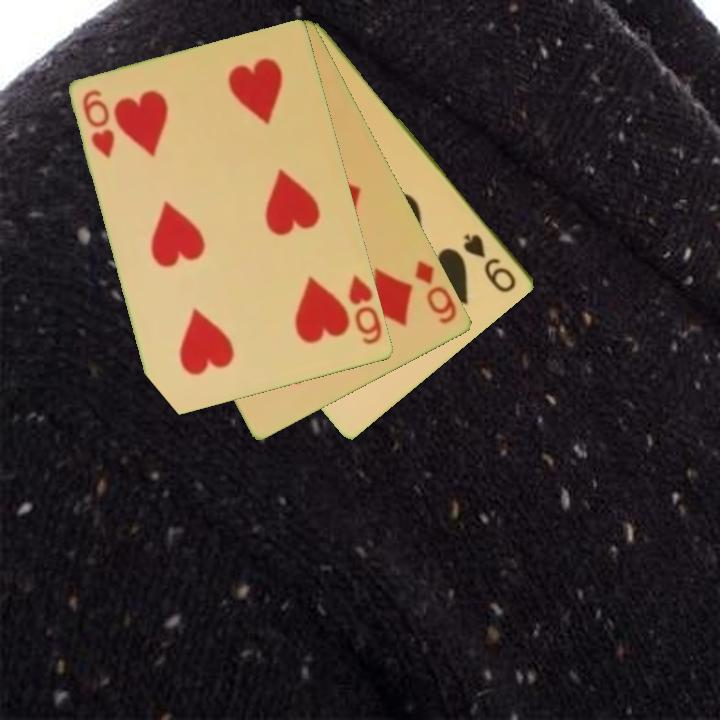6d: (412, 256, 460, 327)
6h: (345, 272, 385, 348), (79, 86, 119, 162)
9s: (460, 230, 520, 296)
